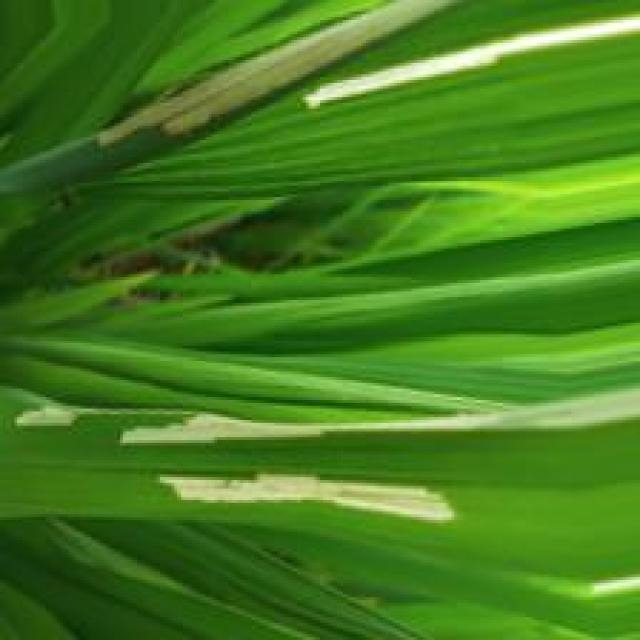Rice_Hispa: (89, 0, 457, 142), (302, 7, 640, 106), (11, 389, 640, 441), (153, 474, 453, 523)
